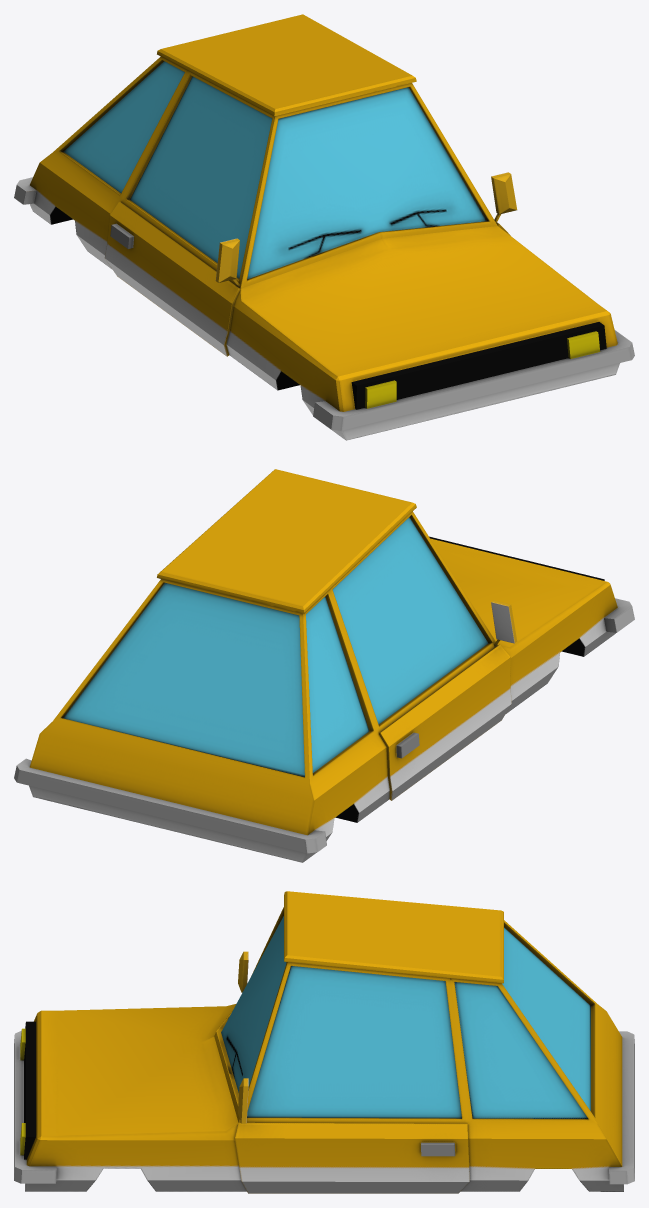
File: car.gltf
3 views of the same model, one above another, from view 1: azimuth 30°, elevation 25°; view 2: azimuth 150°, elevation 25°; view 3: azimuth 270°, elevation 25° (orthographic). The views are drawn at different scales.
Parts seen in each view (by area): view 1: car.032; view 2: car.032; view 3: car.032.
Boxes of the visible parts, x1=… form: car.032: x1=14, y1=14, x2=634, y2=440; car.032: x1=14, y1=469, x2=634, y2=862; car.032: x1=14, y1=891, x2=634, y2=1193.
Size of the model in its own units: 1.11 by 0.7545 by 2.05.
1 material, 1 textured.
